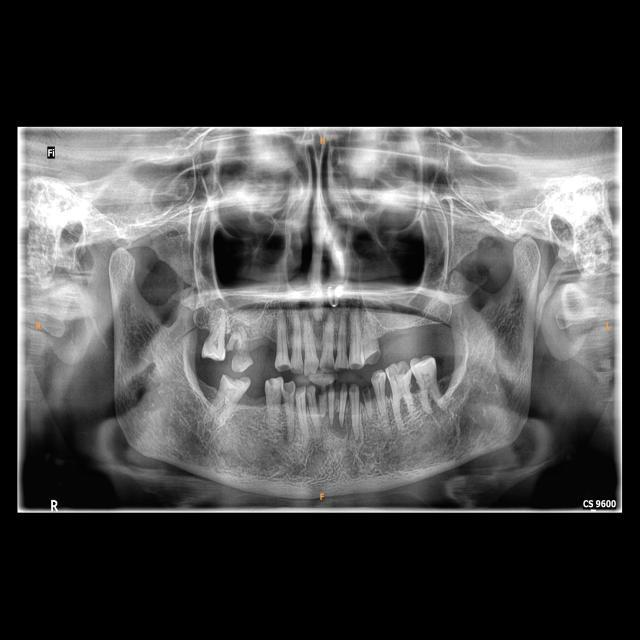dentin-curugu: (230, 339, 245, 366), (364, 350, 383, 368), (276, 358, 291, 372), (362, 382, 372, 403), (280, 381, 296, 394), (294, 384, 307, 396), (321, 362, 334, 372), (348, 362, 362, 370)
